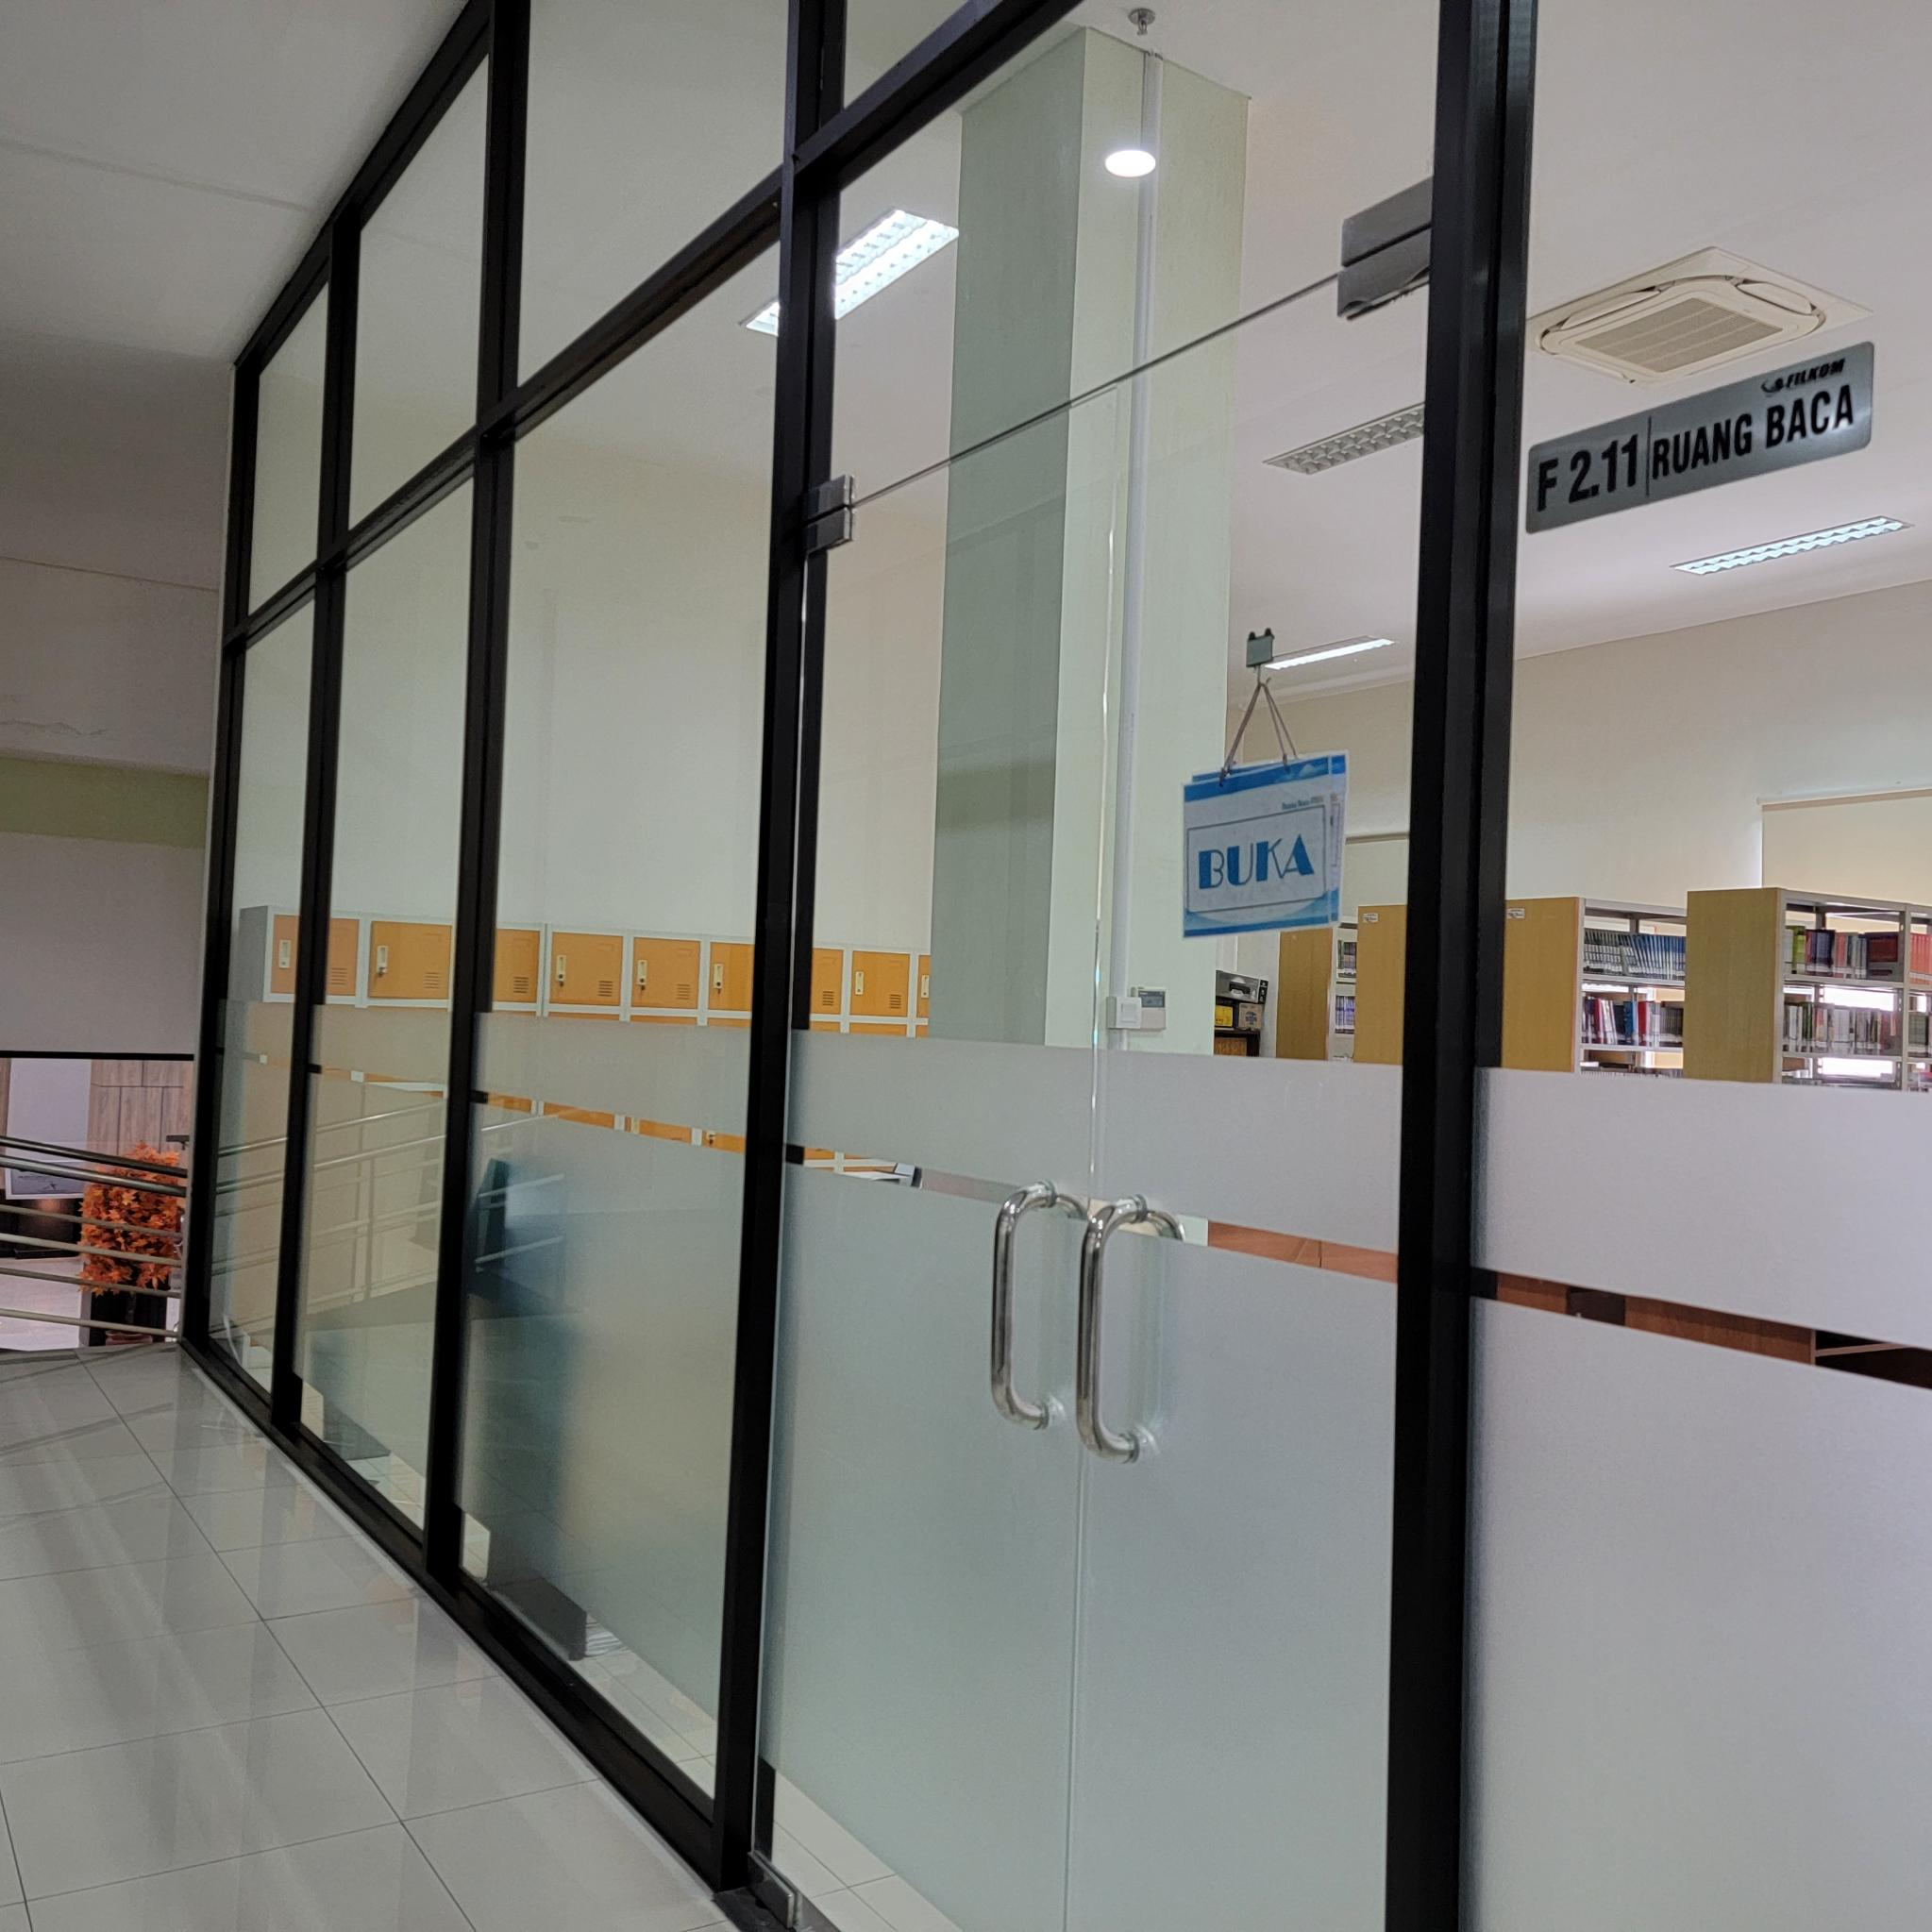plate: (1527, 340, 1874, 531)
